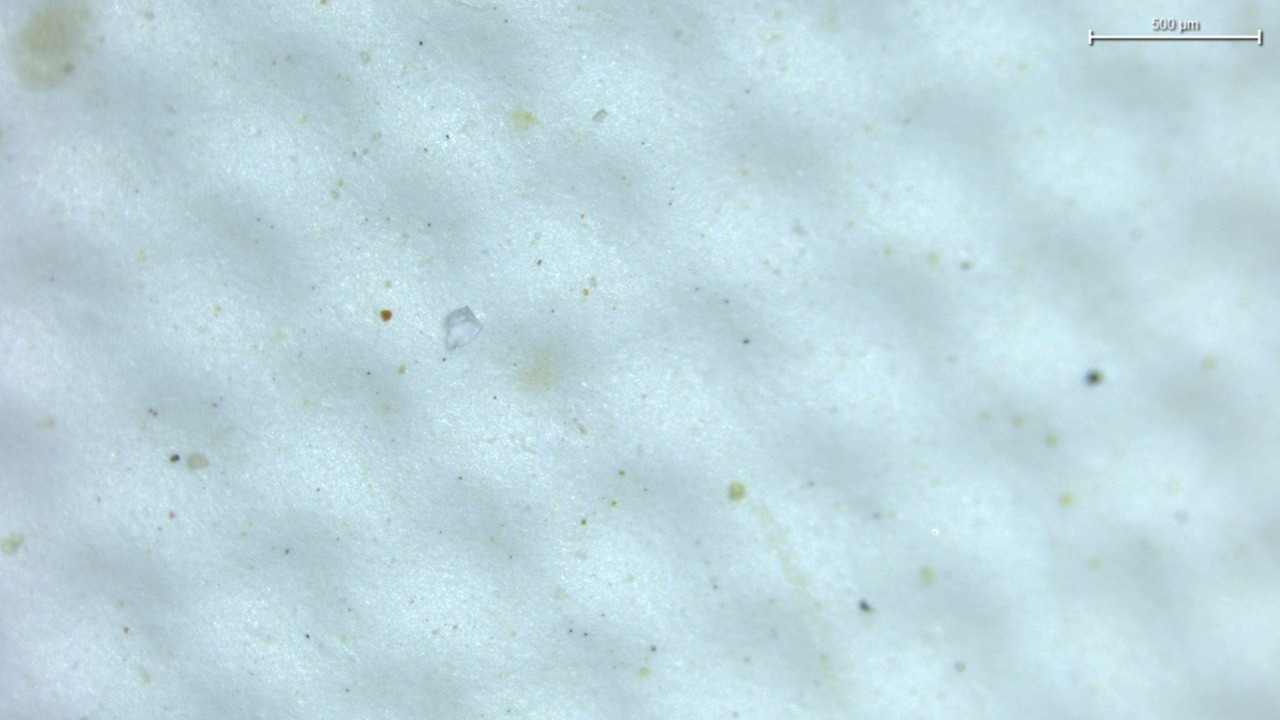microplastic_fragment: (444, 306, 482, 349)
